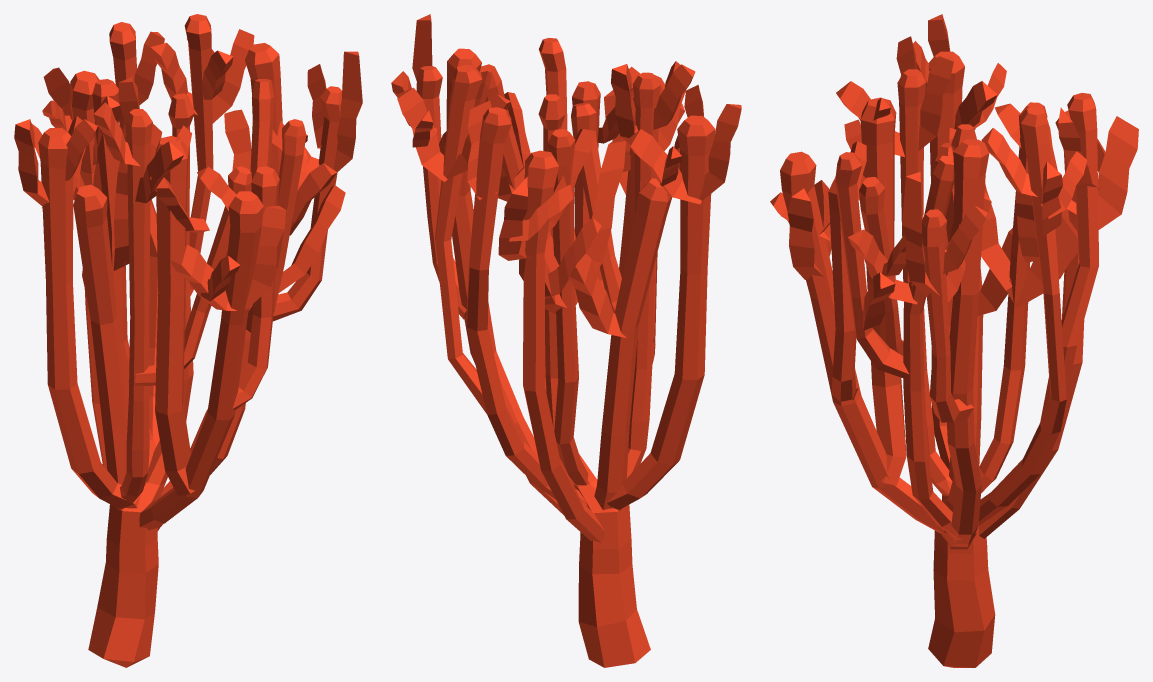
Rendered from SM_Tree_Candelabra_B.fbx.
3 renders of one model, left to right at view 1: azimuth 30°, elevation 25°; view 2: azimuth 150°, elevation 25°; view 3: azimuth 270°, elevation 25°, orthographic. The views are drawn at different scales.
Visible parts, largest first — view 1: SM_Tree_Candelabra_B; view 2: SM_Tree_Candelabra_B; view 3: SM_Tree_Candelabra_B.
Part boxes in pixels (x1,y1,x2,y2): SM_Tree_Candelabra_B: (14, 14, 362, 667); SM_Tree_Candelabra_B: (391, 14, 741, 667); SM_Tree_Candelabra_B: (770, 14, 1138, 667).
Bounding box in the file's own units: 1.58 × 2.67 × 1.45.
